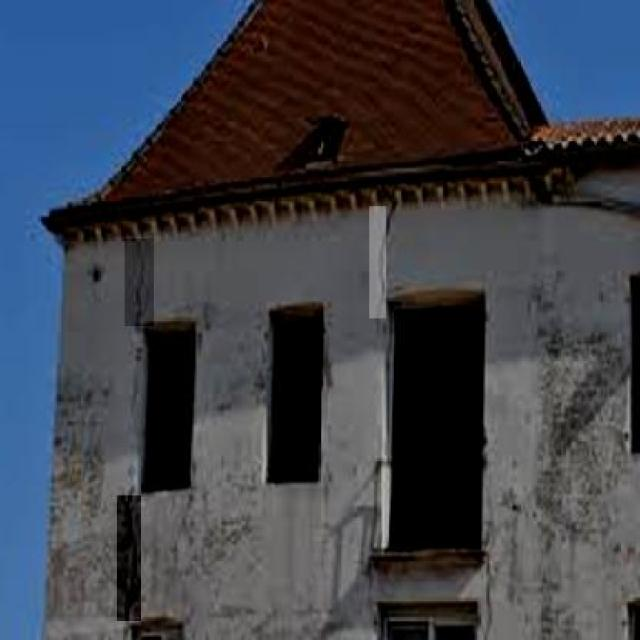Crack: (112, 477, 142, 609), (364, 207, 400, 316), (126, 237, 150, 319)
